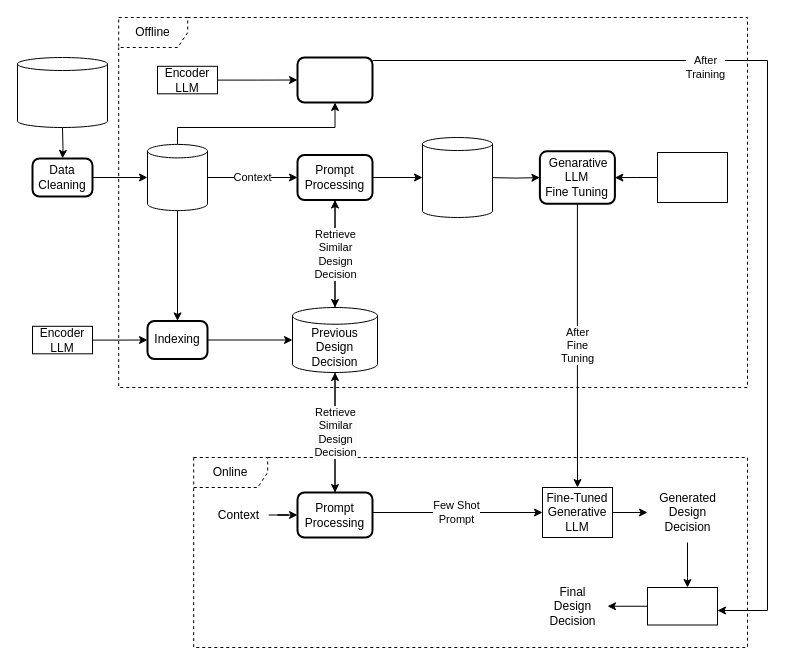
Image size: 793x665. Some labels were removed from this diagram. The centre of each missing label's shape, as x and y in pixels:
"Base Generative LLM" goes at (x=692, y=177).
"Context- Decision pairs" goes at (x=177, y=177).
"Dataset of Architecture Decision Records" goes at (x=62, y=92).
"LLM based Validator" goes at (x=682, y=605).
"Model Training" goes at (x=334, y=79).
"Training Data with Few shot prompt" goes at (x=457, y=177).
